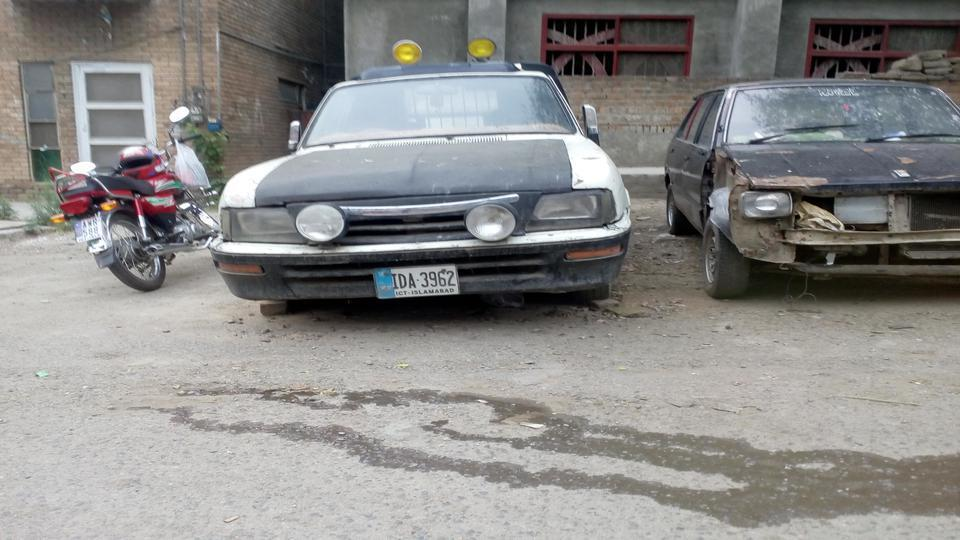NumberPlate: (372, 270, 460, 301)
